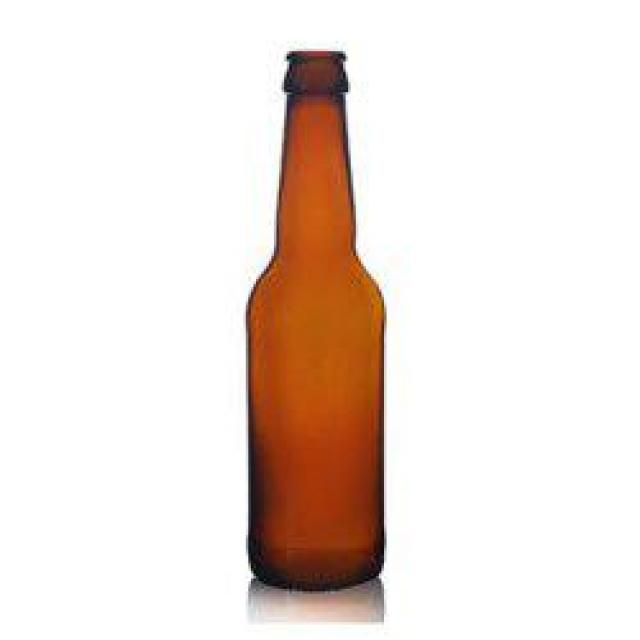non-organic waste: (241, 41, 389, 589)
